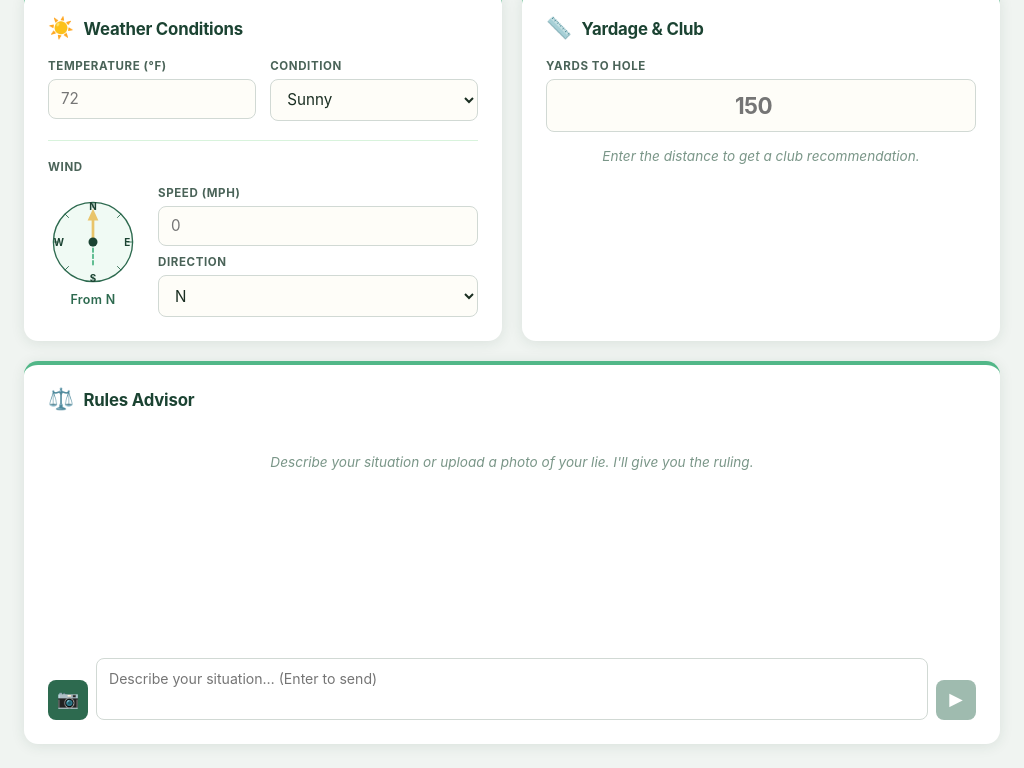
Test: RulesChat › send button enables once text is typed
(page scrolled)
Type "My ball is in a penalty area" into the text box named "Rules question" at (512, 689), box top-left (96, 658), bottom-right (928, 720)
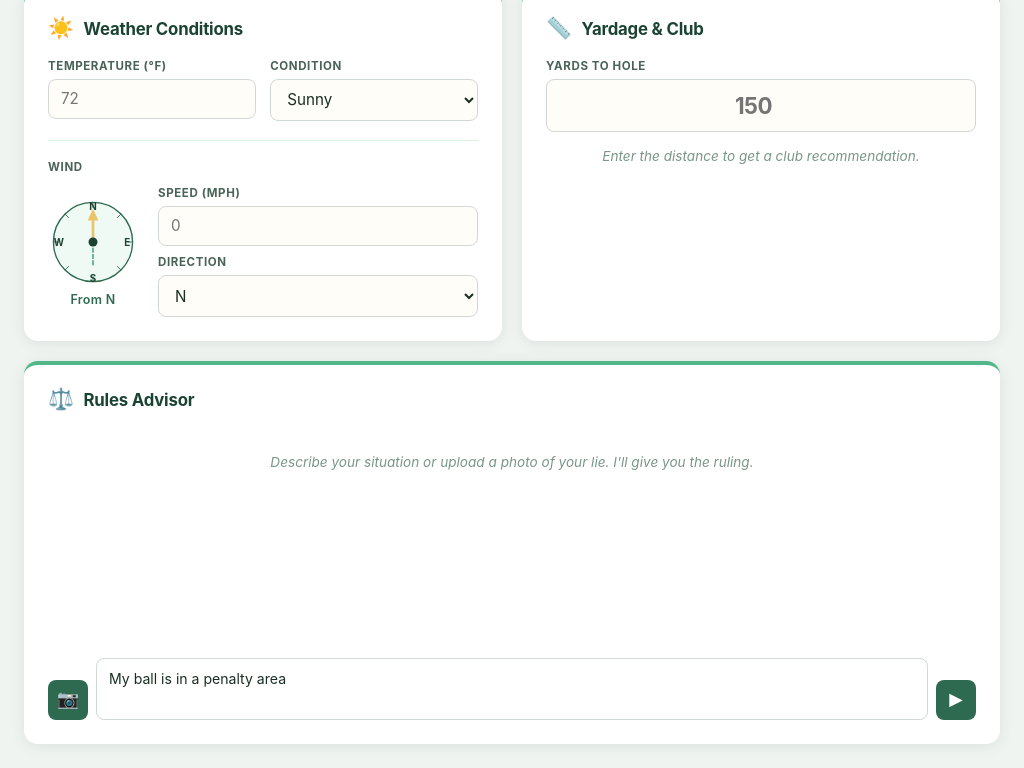
Check: the button named "Send" is enabled, box top-left (936, 680), bottom-right (976, 720)
